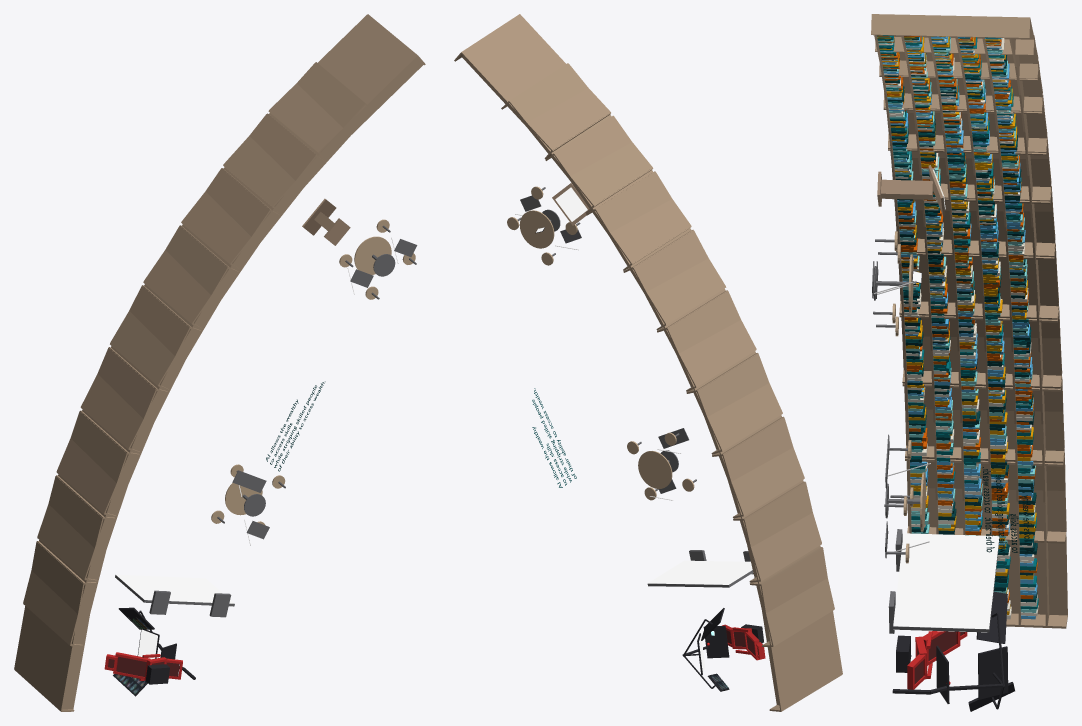
Rendered from museum_room_5.glb.
3 views of the same model, side by side, from view 1: azimuth 30°, elevation 25°; view 2: azimuth 150°, elevation 25°; view 3: azimuth 270°, elevation 25° (orthographic). The views are drawn at different scales.
Visible parts, largest first — view 1: Regale r5_shelves, Raumteiler r5_divider, Tisch r5_table_1, Raumteiler Körper r5_divider, Tisch r5_table_2, Pult r5_lectern, Stuhlstation Sessel r5_station, Stuhlstation Gestell r5_station, Stuhlstation Polster r5_station; view 2: Regale r5_shelves, Raumteiler r5_divider, Tisch r5_table_2, Tisch r5_table_1, Stuhlstation Gestell r5_station, Wandschrift r5_wall_text, Raumteiler Körper r5_divider, Stuhlstation Sessel r5_station; view 3: Regale r5_shelves, Bücher r5_shelves 1, Raumteiler r5_divider, Bücher r5_shelves 6, Bücher r5_shelves 5, Bücher r5_shelves 0, Bücher r5_shelves 4, Bücher r5_shelves 3, Bücher r5_shelves 2, Stuhlstation Gestell r5_station, Pult r5_lectern, Bildschirmrahmen image r5_station (+10 smaller).
Boxes of the visible parts, bbox=[...] form: Regale r5_shelves: bbox=[14, 14, 425, 711]; Raumteiler r5_divider: bbox=[116, 574, 234, 603]; Tisch r5_table_1: bbox=[339, 219, 415, 299]; Raumteiler Körper r5_divider: bbox=[115, 575, 234, 617]; Tisch r5_table_2: bbox=[211, 464, 285, 525]; Pult r5_lectern: bbox=[302, 198, 350, 245]; Stuhlstation Sessel r5_station: bbox=[104, 652, 182, 680]; Stuhlstation Gestell r5_station: bbox=[139, 610, 195, 684]; Stuhlstation Polster r5_station: bbox=[108, 656, 179, 676]; Regale r5_shelves: bbox=[454, 14, 842, 711]; Raumteiler r5_divider: bbox=[648, 560, 752, 584]; Tisch r5_table_2: bbox=[627, 432, 694, 500]; Tisch r5_table_1: bbox=[507, 186, 577, 265]; Stuhlstation Gestell r5_station: bbox=[682, 619, 763, 688]; Wandschrift r5_wall_text: bbox=[532, 388, 576, 487]; Raumteiler Körper r5_divider: bbox=[647, 550, 753, 587]; Stuhlstation Sessel r5_station: bbox=[722, 624, 765, 660]; Regale r5_shelves: bbox=[871, 14, 1067, 628]; Bücher r5_shelves 1: bbox=[877, 36, 1037, 602]; Raumteiler r5_divider: bbox=[893, 533, 999, 629]; Bücher r5_shelves 6: bbox=[878, 38, 1038, 619]; Bücher r5_shelves 5: bbox=[880, 36, 1037, 619]; Bücher r5_shelves 0: bbox=[877, 35, 1038, 609]; Bücher r5_shelves 4: bbox=[877, 35, 1037, 603]; Bücher r5_shelves 3: bbox=[877, 36, 1036, 614]; Bücher r5_shelves 2: bbox=[878, 37, 1036, 612]; Stuhlstation Gestell r5_station: bbox=[892, 612, 1004, 709]; Pult r5_lectern: bbox=[877, 165, 945, 215]; Bildschirmrahmen image r5_station: bbox=[978, 646, 1008, 699].
Bounding box in the file's own units: 11.94 × 19.4 × 3.97.
Materials: 28 (2 with a texture image).
